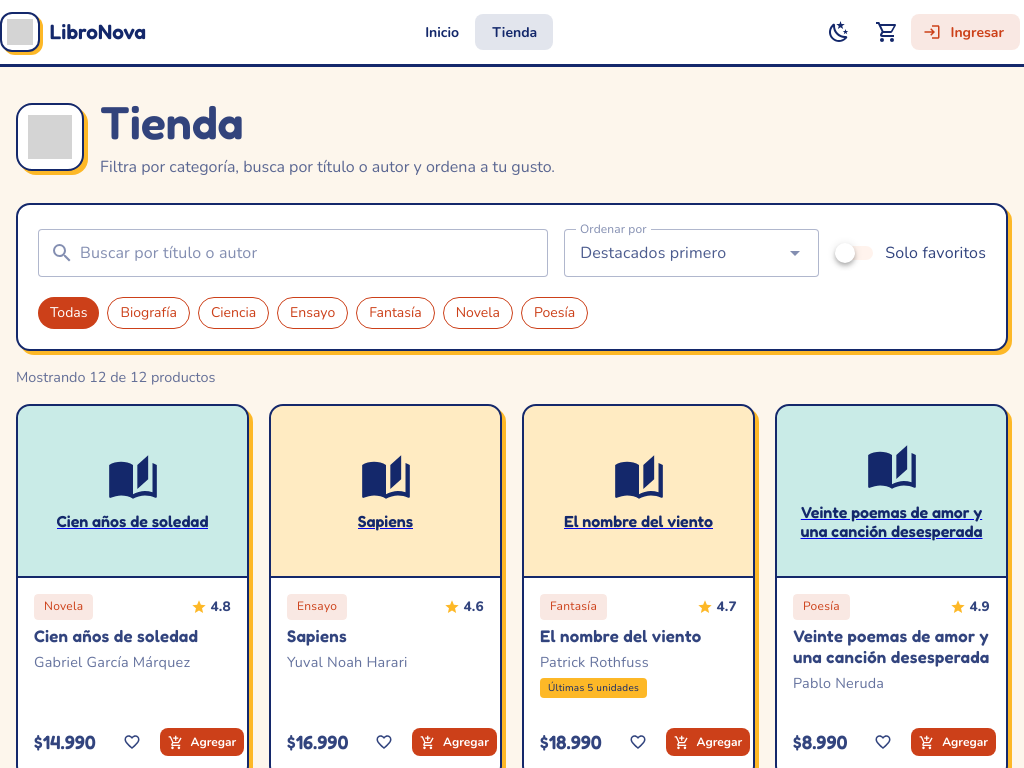
Test case: Tienda: catálogo de productos › filtra por categoría
Click the text "Ciencia" at {"x": 234, "y": 313}, box [198,297,269,329]
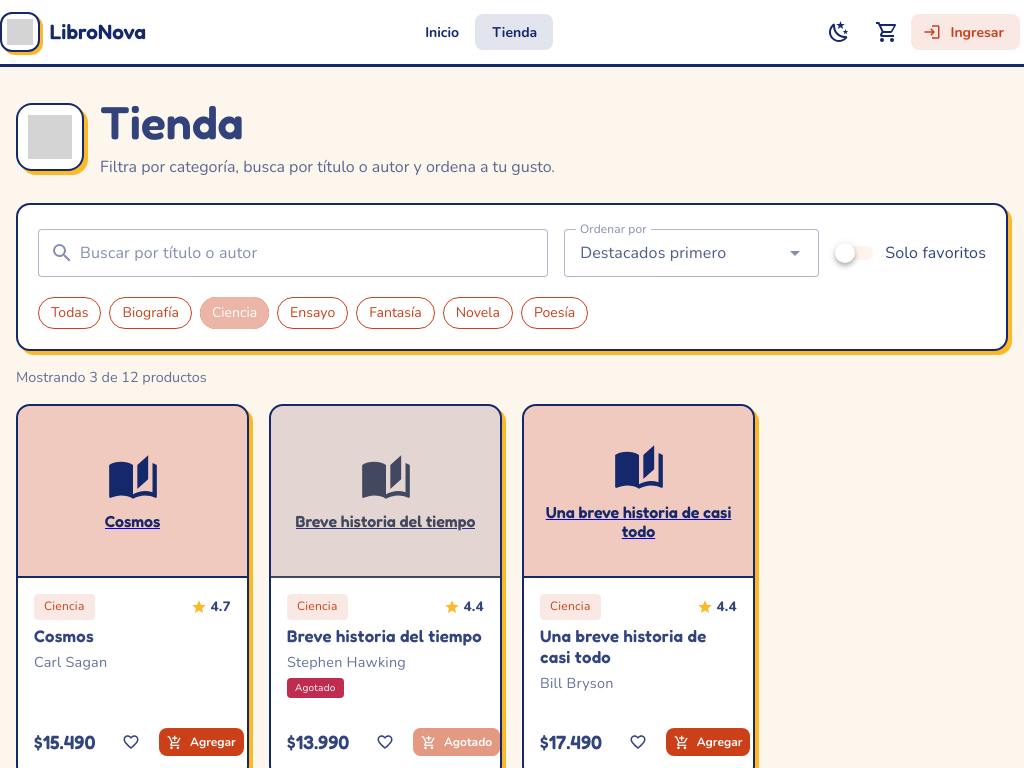
Expected: the element with test id "categoria" reads "Ciencia", [34,594,95,620]
Now the number of elements with test id "producto-card" is more than 0
Click the text "Todas" at {"x": 70, "y": 313}, box [38,297,102,329]
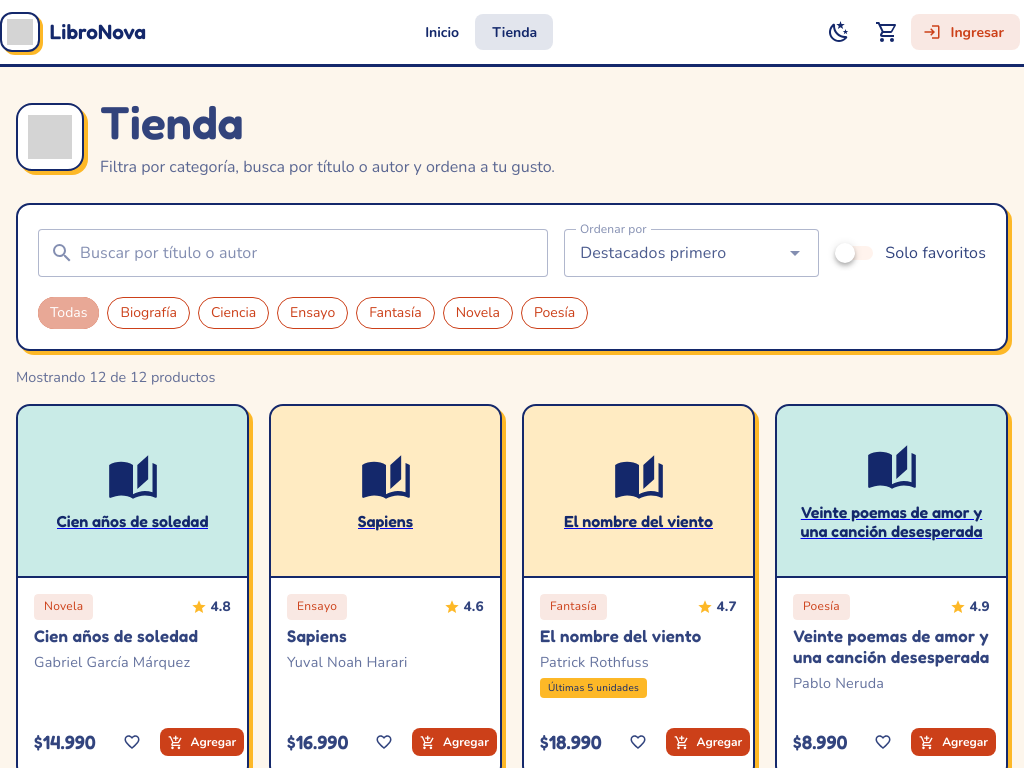
Now the number of elements with test id "producto-card" is 12
